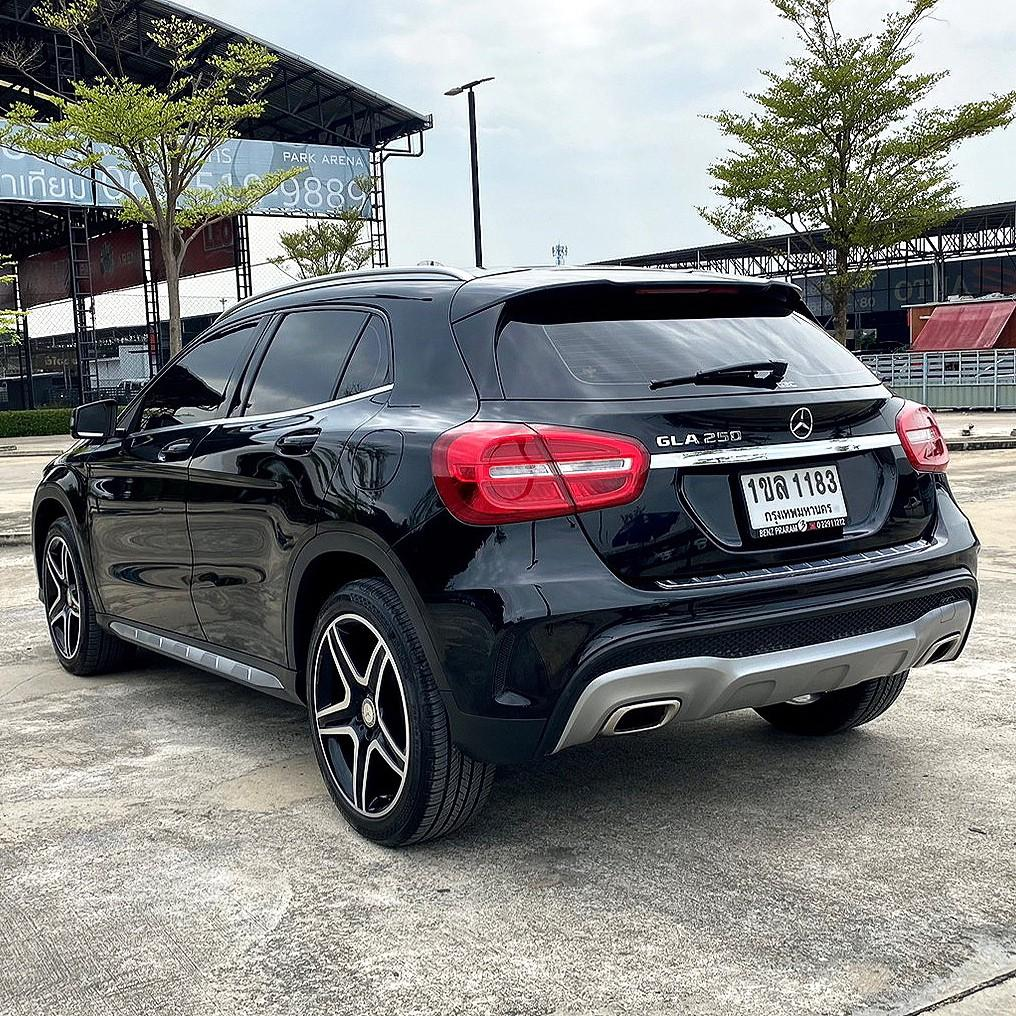license-plate: (730, 454, 853, 543)
